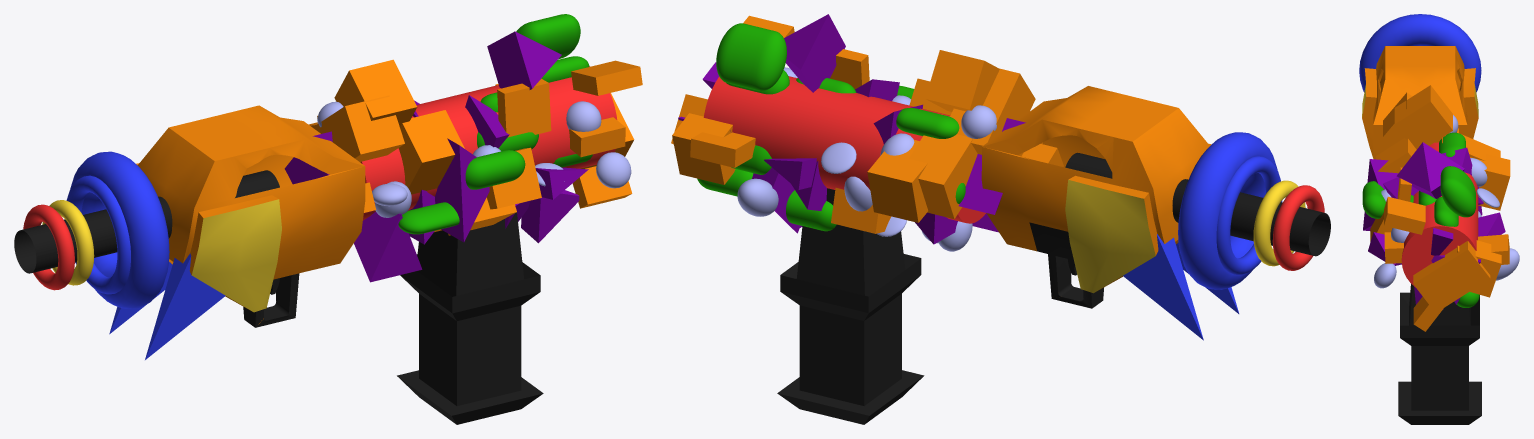
The model's file is Arma_Abstracta_ColorBien.fbx.
The picture shows the model from 3 angles, left to right: view 1: azimuth 30°, elevation 25°; view 2: azimuth 150°, elevation 25°; view 3: azimuth 270°, elevation 25°; orthographic projection. The views are drawn at different scales.
Visible parts, largest first — view 1: Cube_Extrude_Cube_1, Mango, Torus_3_Torus_2, Cañon_Largo, Cylinder_1, Cube_1_55, Cube_1_51, Cube_1_47, Pyramid, Pyramid_42, Pyramid_10, Cube_1_15 (+20 smaller); view 2: Cube_Extrude_Cube_1, Mango, Cañon_Largo, Torus_3_Torus_2, Cylinder_1, Capsule_17, Cube_1_3, Cube_1_23, Pyramid_1, Cube_1_51, Pyramid_10, Cube_1_47 (+20 smaller); view 3: Mango, Cube_Extrude_Cube_1, Torus_3_Torus_2, Cube_1_27, Cañon_Largo, Cube_1_51, Pyramid_10, Capsule_17, Cube_1_7, Cube_1_23, Cube_1_35, Cube_1_55 (+23 smaller).
Part boxes in pixels (left/top/right/bottom): Cube_Extrude_Cube_1: left=136, top=105, right=365, bottom=327; Mango: left=397, top=212, right=543, bottom=424; Torus_3_Torus_2: left=66, top=151, right=169, bottom=308; Cañon_Largo: left=360, top=66, right=617, bottom=220; Cylinder_1: left=14, top=170, right=279, bottom=273; Cube_1_55: left=398, top=110, right=464, bottom=194; Cube_1_51: left=334, top=59, right=417, bottom=126; Cube_1_47: left=313, top=95, right=404, bottom=162; Pyramid: left=145, top=253, right=225, bottom=359; Pyramid_42: left=354, top=212, right=422, bottom=282; Pyramid_10: left=487, top=31, right=561, bottom=89; Cube_1_15: left=497, top=78, right=551, bottom=137; Cube_Extrude_Cube_1: left=981, top=86, right=1211, bottom=308; Mango: left=777, top=188, right=924, bottom=424; Cañon_Largo: left=703, top=76, right=985, bottom=223; Torus_3_Torus_2: left=1178, top=132, right=1282, bottom=289; Cylinder_1: left=1065, top=152, right=1330, bottom=256; Capsule_17: left=716, top=23, right=786, bottom=91; Cube_1_3: left=909, top=114, right=977, bottom=219; Cube_1_23: left=867, top=140, right=928, bottom=222; Pyramid_1: left=1123, top=234, right=1203, bottom=340; Cube_1_51: left=925, top=50, right=999, bottom=111; Pyramid_10: left=784, top=14, right=845, bottom=92; Cube_1_47: left=950, top=68, right=1035, bottom=154; Mango: left=1398, top=284, right=1481, bottom=424; Cube_Extrude_Cube_1: left=1362, top=46, right=1478, bottom=159; Torus_3_Torus_2: left=1359, top=14, right=1481, bottom=92; Cube_1_27: left=1413, top=241, right=1490, bottom=312; Cañon_Largo: left=1401, top=142, right=1478, bottom=287; Cube_1_51: left=1394, top=85, right=1452, bottom=149; Pyramid_10: left=1396, top=142, right=1464, bottom=198; Capsule_17: left=1440, top=166, right=1475, bottom=217; Cube_1_7: left=1384, top=196, right=1425, bottom=234; Cube_1_23: left=1470, top=154, right=1510, bottom=210; Cube_1_35: left=1457, top=240, right=1501, bottom=297; Cube_1_55: left=1376, top=138, right=1416, bottom=173.
Bounding box in the file's own units: 1127 × 665 × 341.
